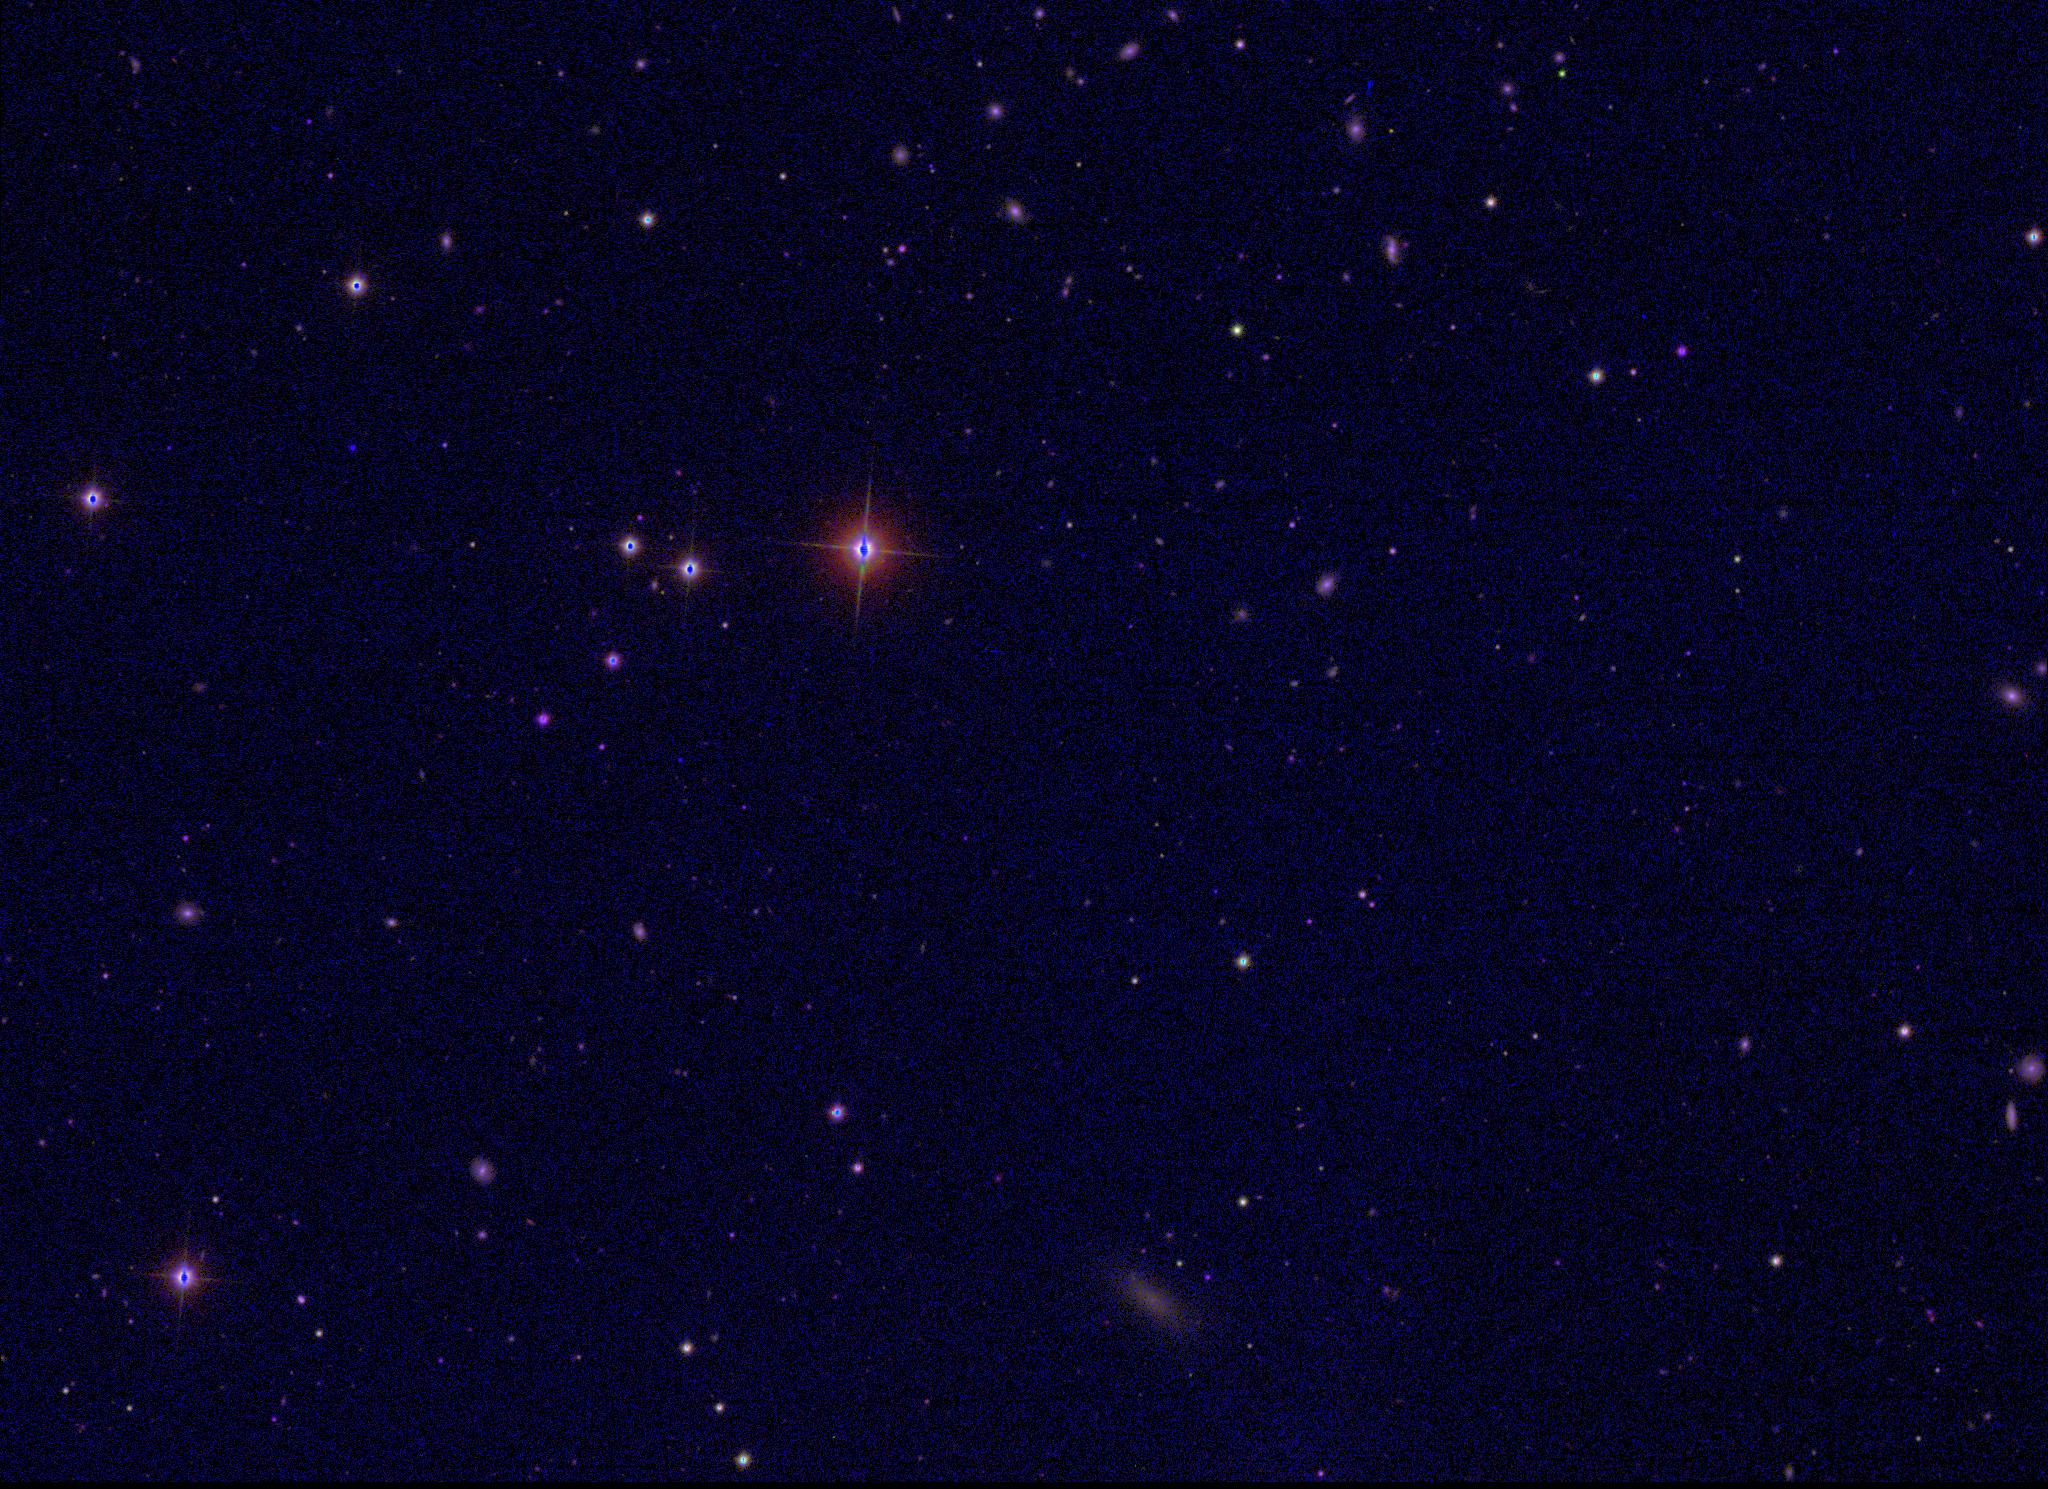L: (343, 439, 358, 453)
